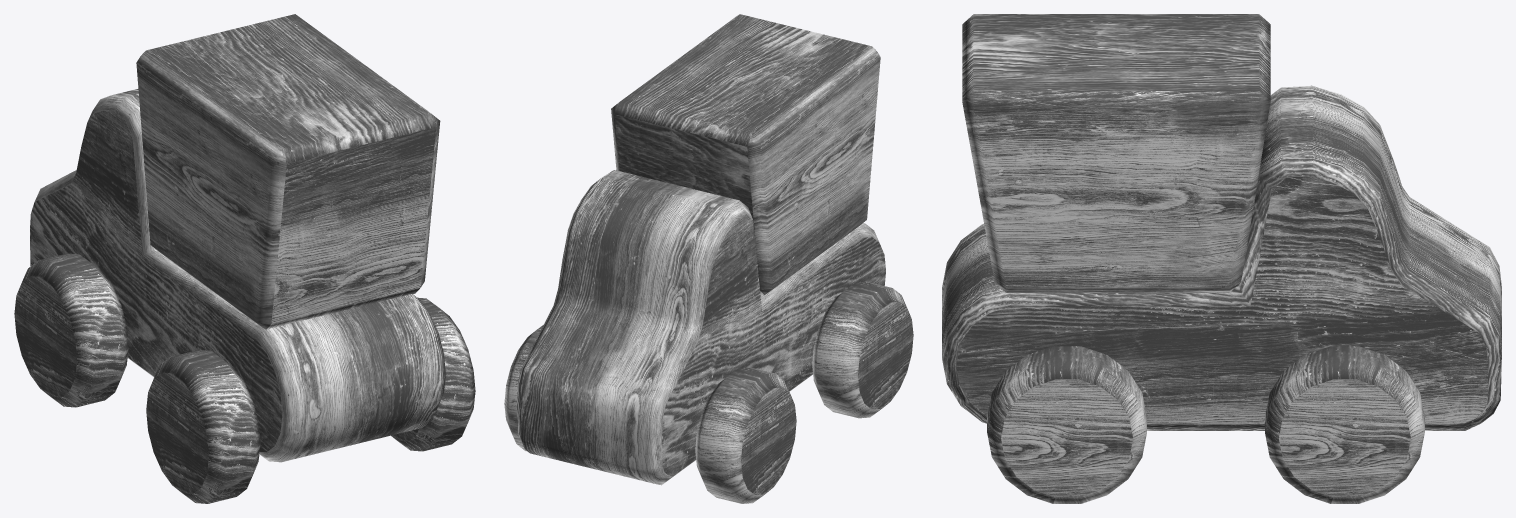
Rendered from SM_Toy_A5.fbx.
The picture shows the model from 3 angles, left to right: view 1: azimuth 30°, elevation 25°; view 2: azimuth 150°, elevation 25°; view 3: azimuth 270°, elevation 25°; orthographic projection. The views are drawn at different scales.
Visible parts, largest first — view 1: SM_Toy_A5; view 2: SM_Toy_A5; view 3: SM_Toy_A5.
Boxes of the visible parts, x1,y1,x2,y2 form: SM_Toy_A5: [14, 14, 475, 503]; SM_Toy_A5: [504, 14, 913, 503]; SM_Toy_A5: [942, 14, 1501, 503].
Size of the model in its own units: 14.67 by 25.31 by 19.42.
Materials: 3 (3 with a texture image).
